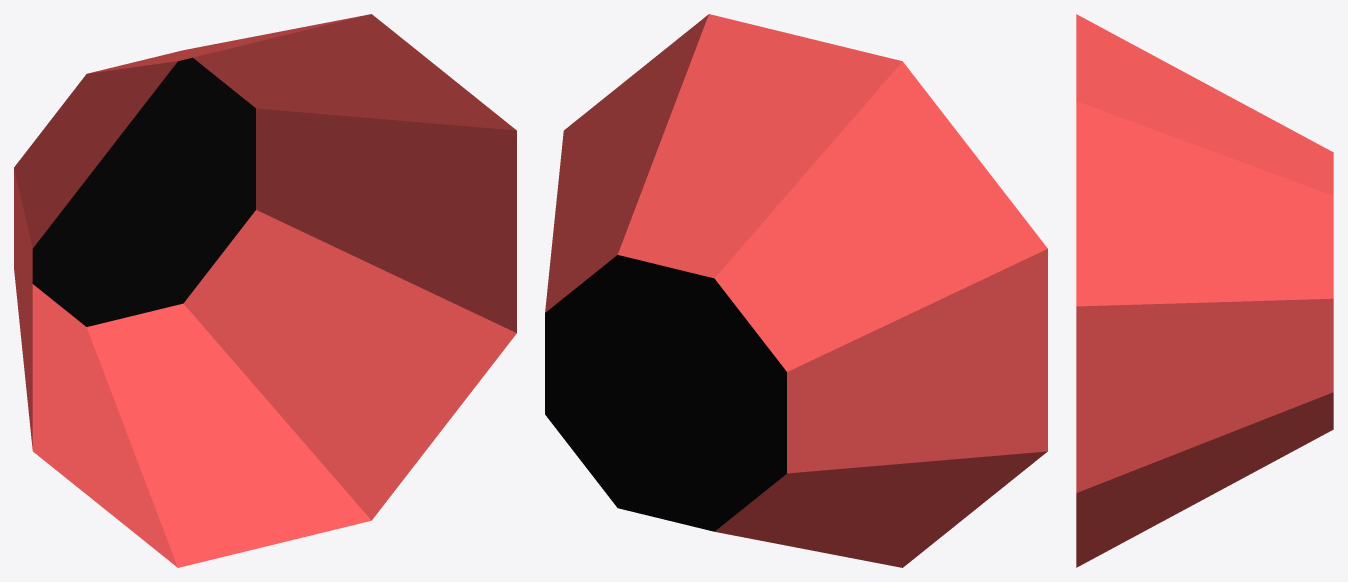
File: E_engine.FBX
3 renders of one model, left to right at view 1: azimuth 30°, elevation 25°; view 2: azimuth 150°, elevation 25°; view 3: azimuth 270°, elevation 25°, orthographic. The views are drawn at different scales.
Parts seen in each view (by area): view 1: VIFS002, VIFS001; view 2: VIFS002, VIFS001; view 3: VIFS002.
Part boxes in pixels (x1=…): VIFS002: x1=14, y1=14, x2=516, y2=567; VIFS001: x1=32, y1=57, x2=255, y2=326; VIFS002: x1=545, y1=14, x2=1047, y2=567; VIFS001: x1=545, y1=255, x2=786, y2=531; VIFS002: x1=1076, y1=14, x2=1333, y2=567.
Size of the model in its own units: 0.2 by 0.2 by 0.1.
